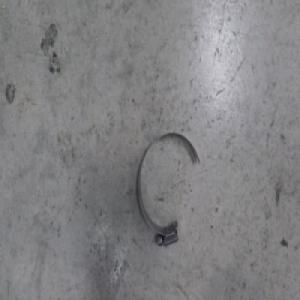AdjustableClamp: (136, 132, 200, 248)
